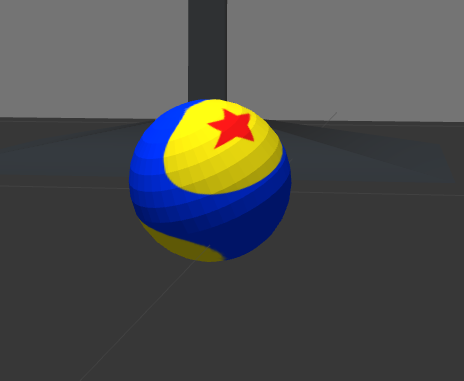toy story ball: (128, 99, 291, 262)
